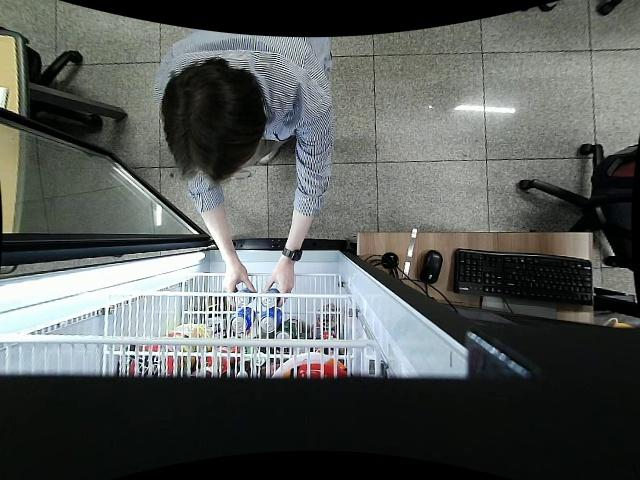00_hand: (219, 265, 257, 305), (265, 270, 294, 307)
